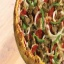pepper: (31, 10, 48, 32), (30, 34, 53, 42), (48, 45, 61, 59), (45, 16, 64, 24)
pizza: (13, 1, 64, 64)
